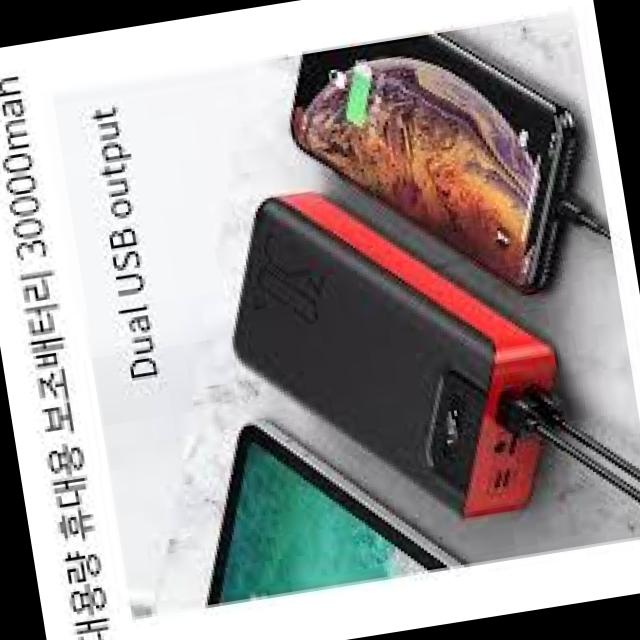power_bank: (207, 151, 582, 558)
